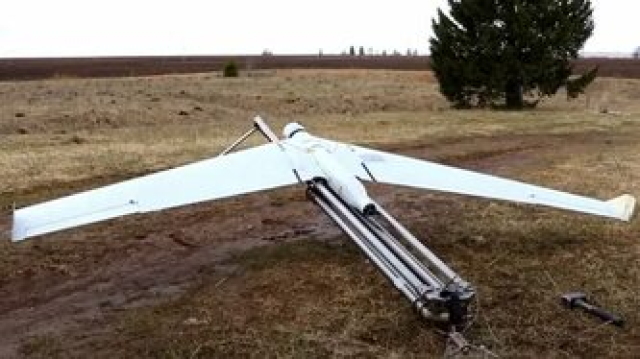military drone: (11, 121, 636, 242)
